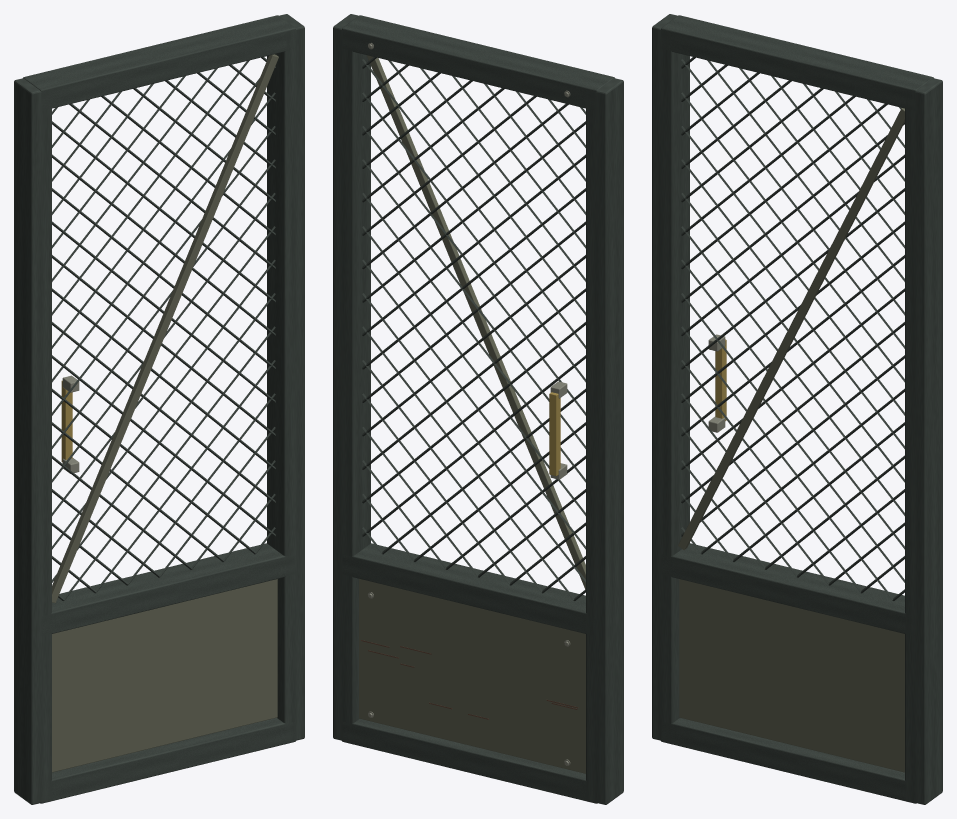
The model's file is ELEVATOR_DoorRight.fbx.
3 renders of one model, left to right at view 1: azimuth 30°, elevation 25°; view 2: azimuth 150°, elevation 25°; view 3: azimuth 330°, elevation 25°, orthographic.
Visible parts, largest first — view 1: ELEVATOR_DoorRight_Mesh; view 2: ELEVATOR_DoorRight_Mesh; view 3: ELEVATOR_DoorRight_Mesh.
Boxes of the visible parts, x1=… form: ELEVATOR_DoorRight_Mesh: x1=14, y1=14, x2=304, y2=804; ELEVATOR_DoorRight_Mesh: x1=333, y1=14, x2=623, y2=804; ELEVATOR_DoorRight_Mesh: x1=652, y1=14, x2=942, y2=804.
Bounding box in the file's own units: 1.2 × 2.99 × 0.1485.
